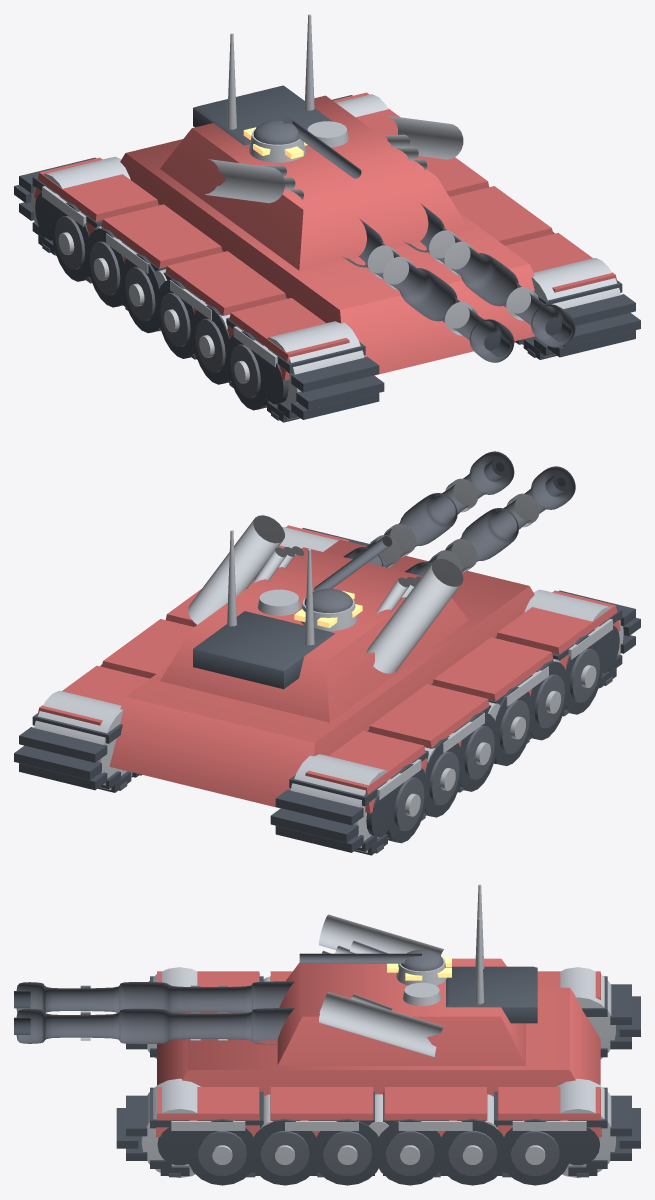
Rendered from apoc.glb.
3 renders of one model, top to bottom at view 1: azimuth 30°, elevation 25°; view 2: azimuth 150°, elevation 25°; view 3: azimuth 270°, elevation 25°, orthographic. The views are drawn at different scales.
Visible parts, largest first — view 1: Hull, Turret, Barrel; view 2: Hull, Turret, Barrel; view 3: Hull, Turret, Barrel.
Part boxes in pixels (x1,y1,x2,y2): Hull: (14, 92, 640, 422); Turret: (125, 14, 528, 309); Barrel: (325, 177, 575, 362); Hull: (14, 525, 640, 855); Turret: (125, 515, 528, 742); Barrel: (343, 451, 575, 576); Hull: (116, 967, 640, 1185); Turret: (187, 884, 569, 1069); Barrel: (14, 981, 301, 1064).
Size of the model in its own units: 2.26 by 1.46 by 3.94.
